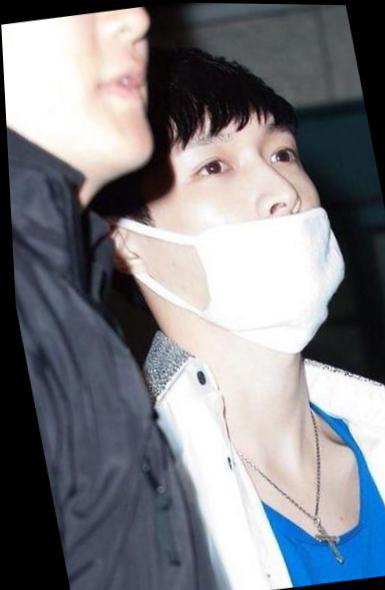NONE: (1, 4, 179, 194)
WRONG: (121, 119, 353, 358)
